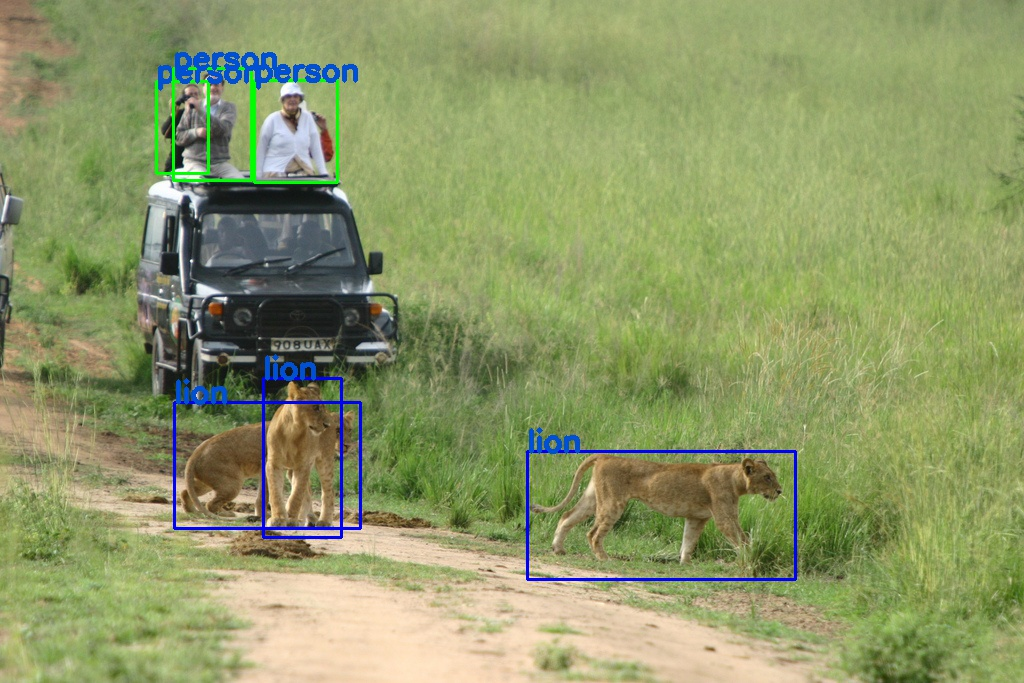lion: (527, 450, 795, 578), (173, 402, 360, 527), (263, 378, 341, 536)
person: (172, 68, 250, 179), (253, 80, 336, 182), (155, 80, 207, 172)
